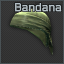Bandana: (0, 0, 64, 64)
